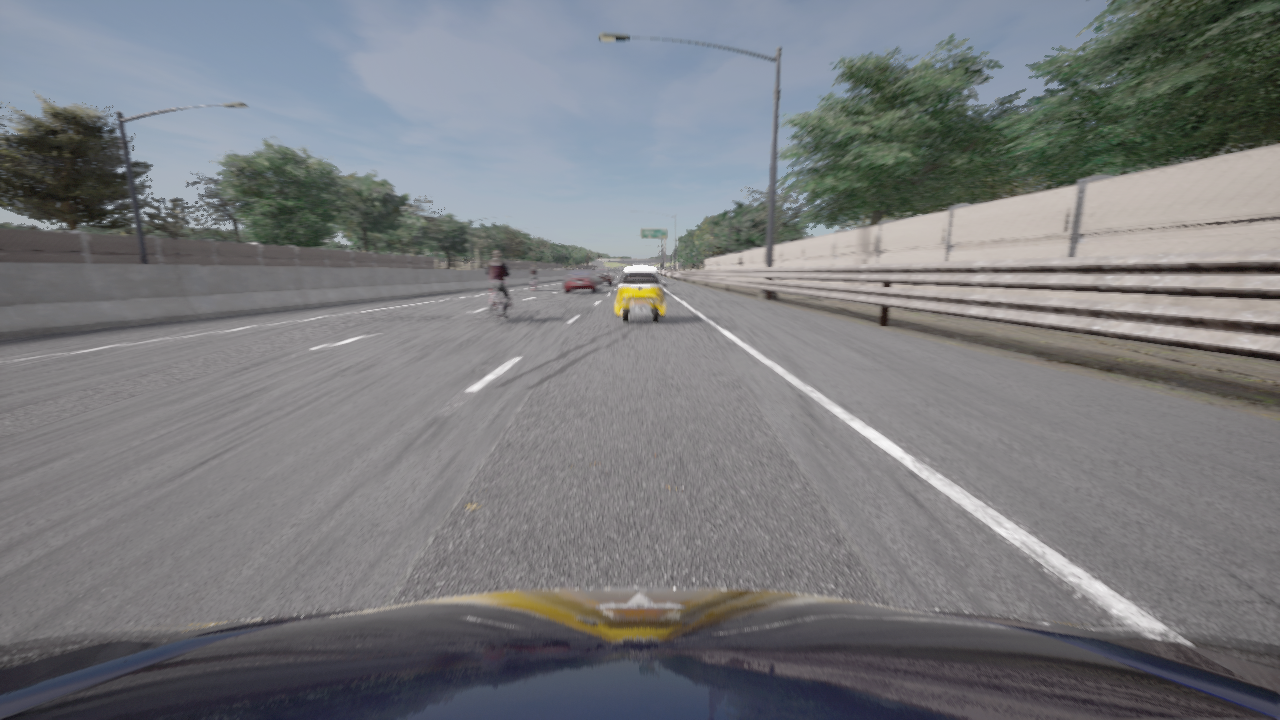cyclist: (0, 588, 1279, 719), (612, 267, 667, 322), (490, 281, 510, 322), (564, 270, 601, 292), (593, 269, 613, 285), (531, 280, 536, 290), (565, 271, 572, 278)
